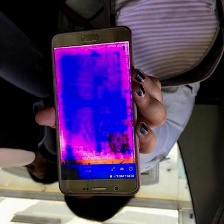phone: (46, 21, 142, 201)
